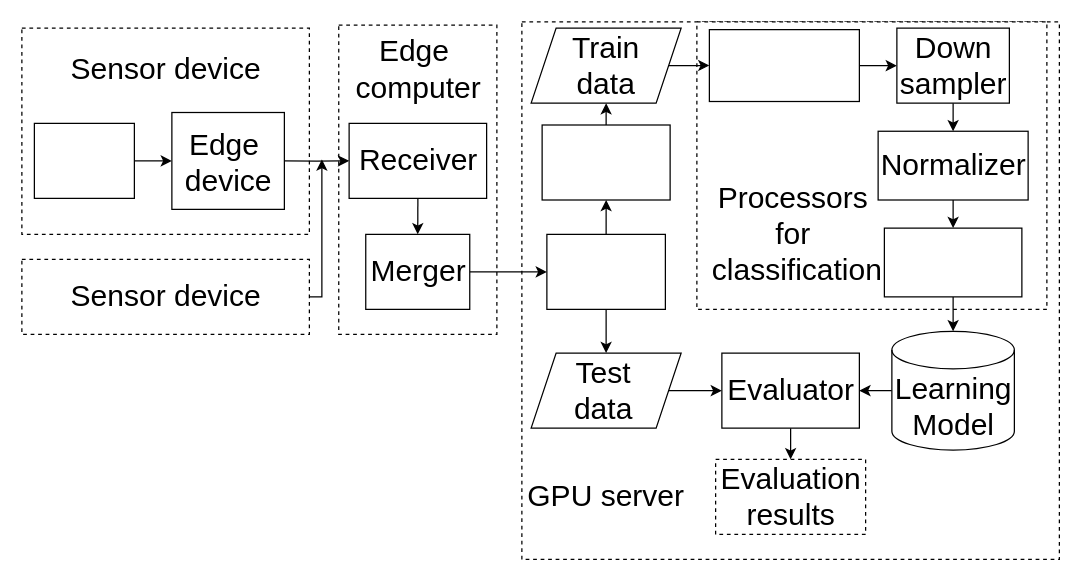
The diagram is 1081 pixels wide and 581 high, and some of its shapes have lost their labels. Here are the shapes that lost their labels. From the top down, the box of each, then its label:
(708, 28, 859, 102): Clustering processor
(33, 122, 134, 198): LiDAR
(541, 124, 670, 200): Feature estimator
(546, 233, 665, 309): Trimmer
(883, 227, 1022, 297): Classifier
